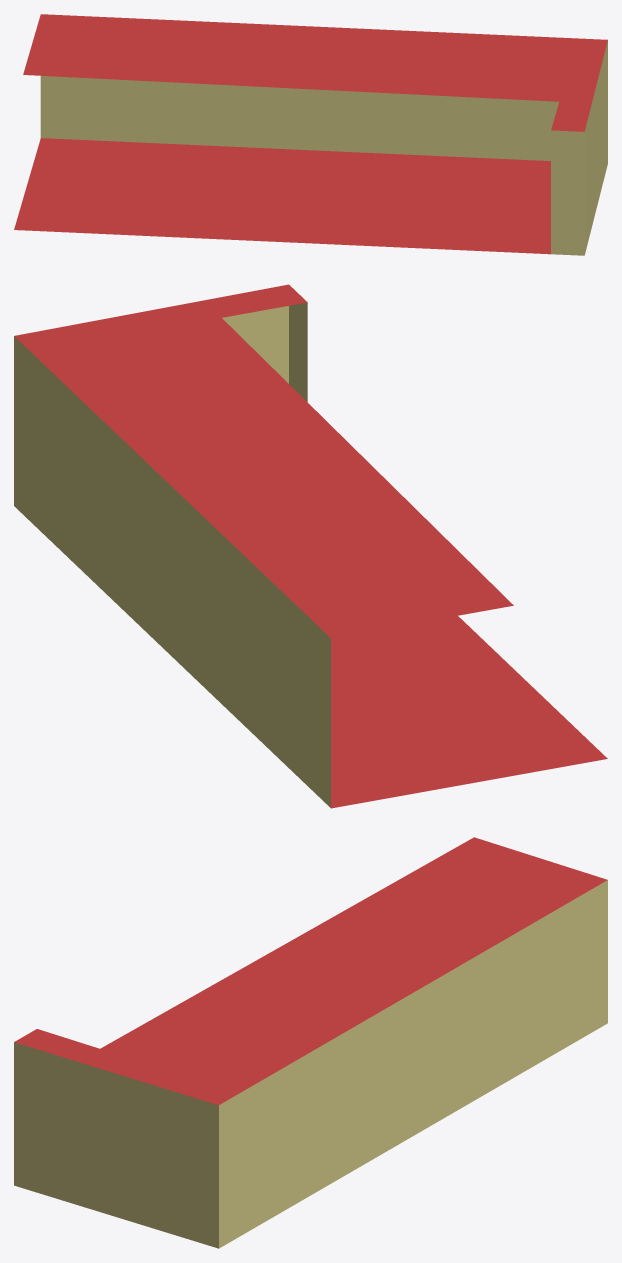
3 renders of one model, top to bottom at view 1: azimuth 30°, elevation 25°; view 2: azimuth 150°, elevation 25°; view 3: azimuth 270°, elevation 25°, orthographic. The views are drawn at different scales.
Parts seen in each view (by area): view 1: group_5, group_4, group_3; view 2: group_3, group_4, group_5; view 3: group_4, group_3.
Part boxes in pixels (box(x1,y1,x2,y2)): group_5: box(14, 138, 550, 254); group_4: box(40, 40, 607, 255); group_3: box(23, 14, 607, 131); group_3: box(14, 284, 513, 638); group_4: box(14, 302, 330, 807); group_5: box(331, 615, 607, 808); group_4: box(14, 880, 607, 1248); group_3: box(14, 837, 607, 1105).
Size of the model in its own units: 21.79 by 18.86 by 5.02.
